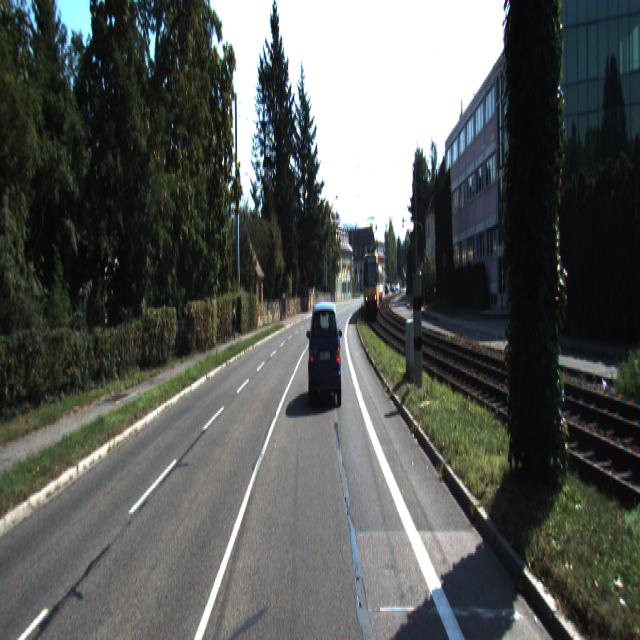Car: (308, 299, 342, 410)
DontCare: (384, 283, 397, 293)
Tram: (363, 248, 379, 318)
